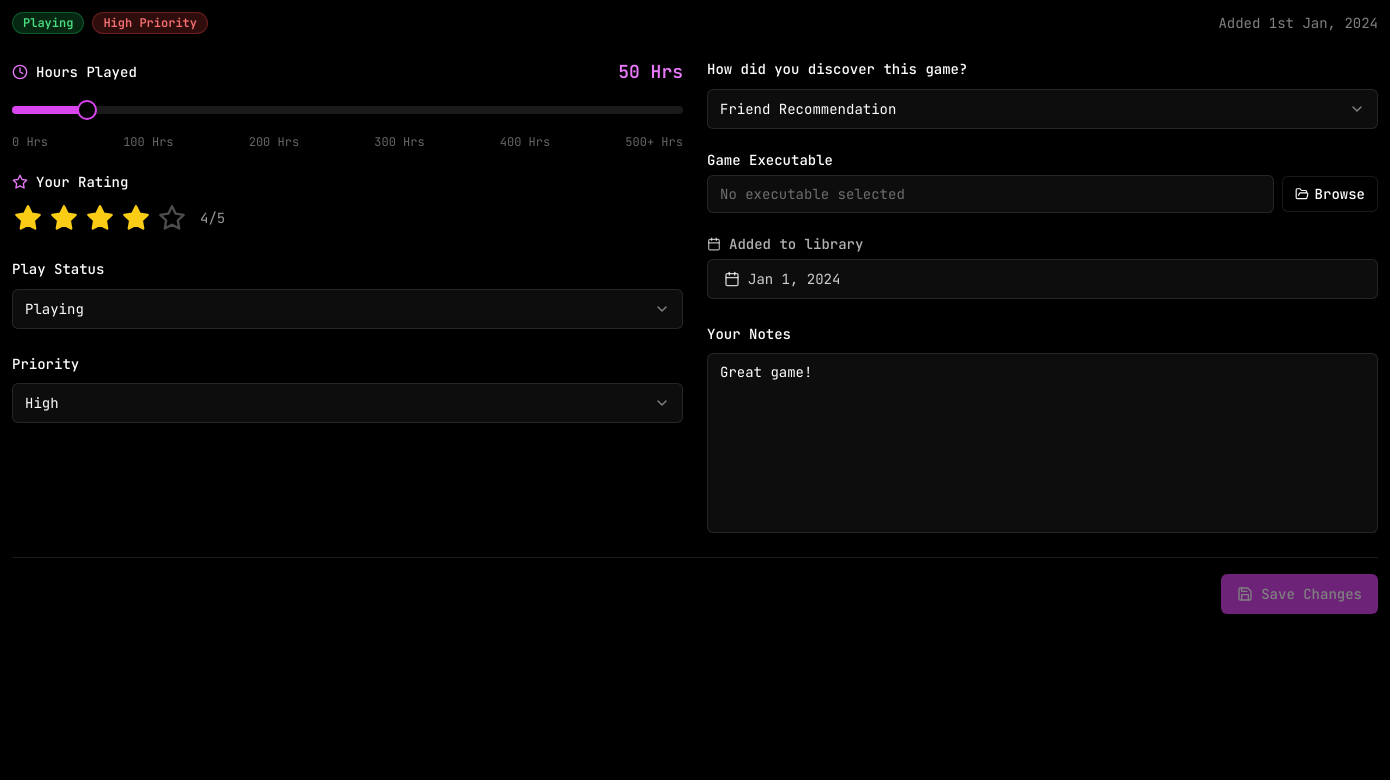
Test: MyProgressTab › enables save button when notes are changed
The image size is (1390, 780).
Replace the text in the text box showing "Great game!" with "Updated notes!". click: point(1042, 443)
box: [707,353,1378,533]
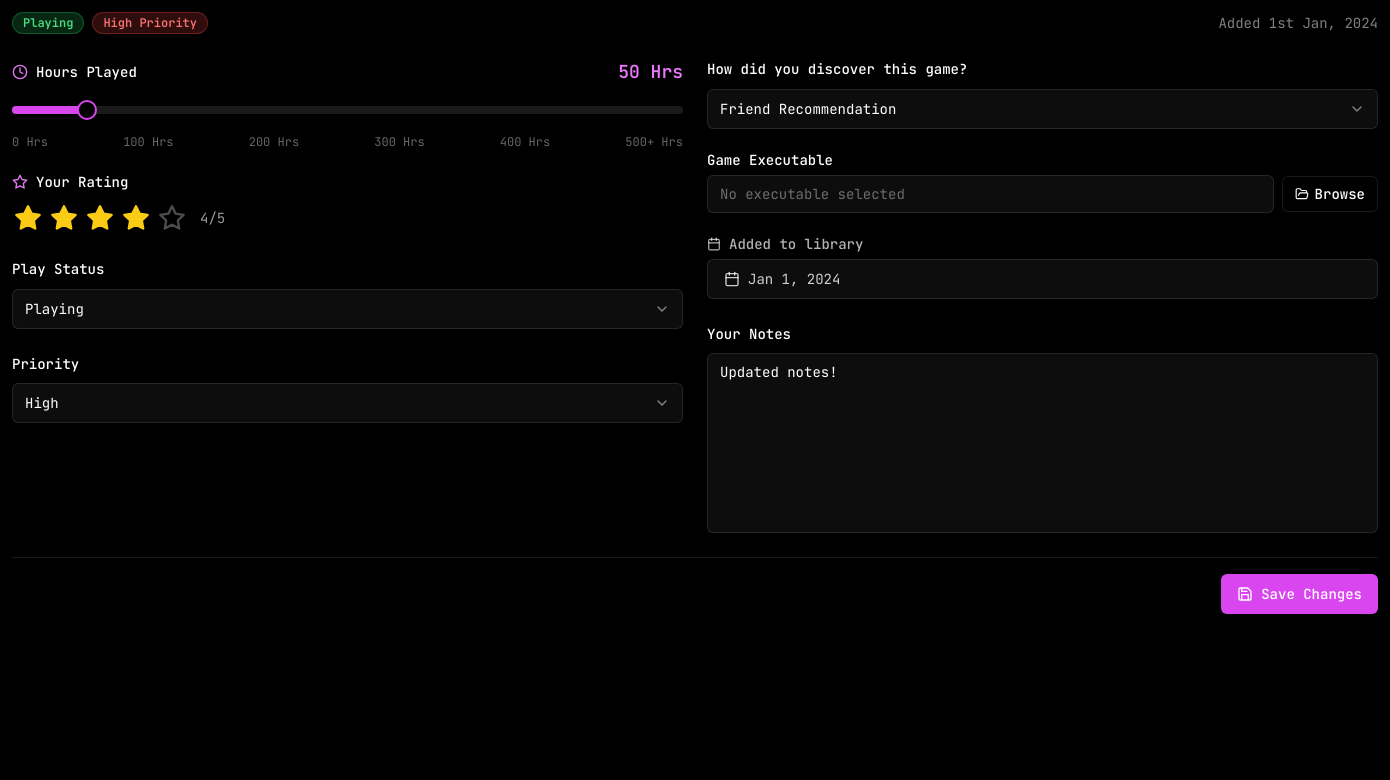
Expected: the button "Save Changes" is enabled, [1221,574,1378,614]
